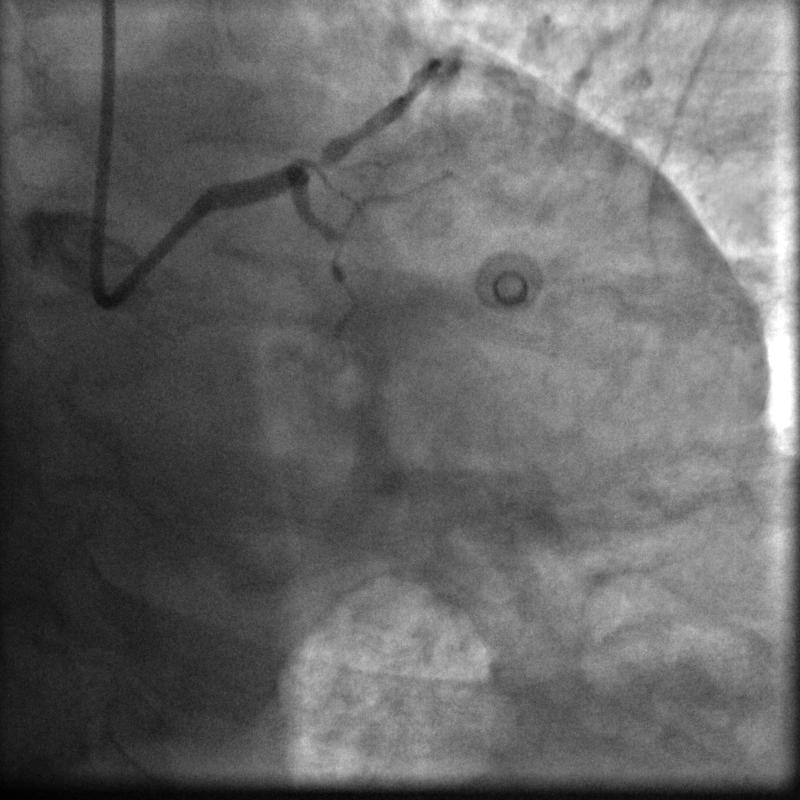Stenosis: (296, 140, 340, 181)
